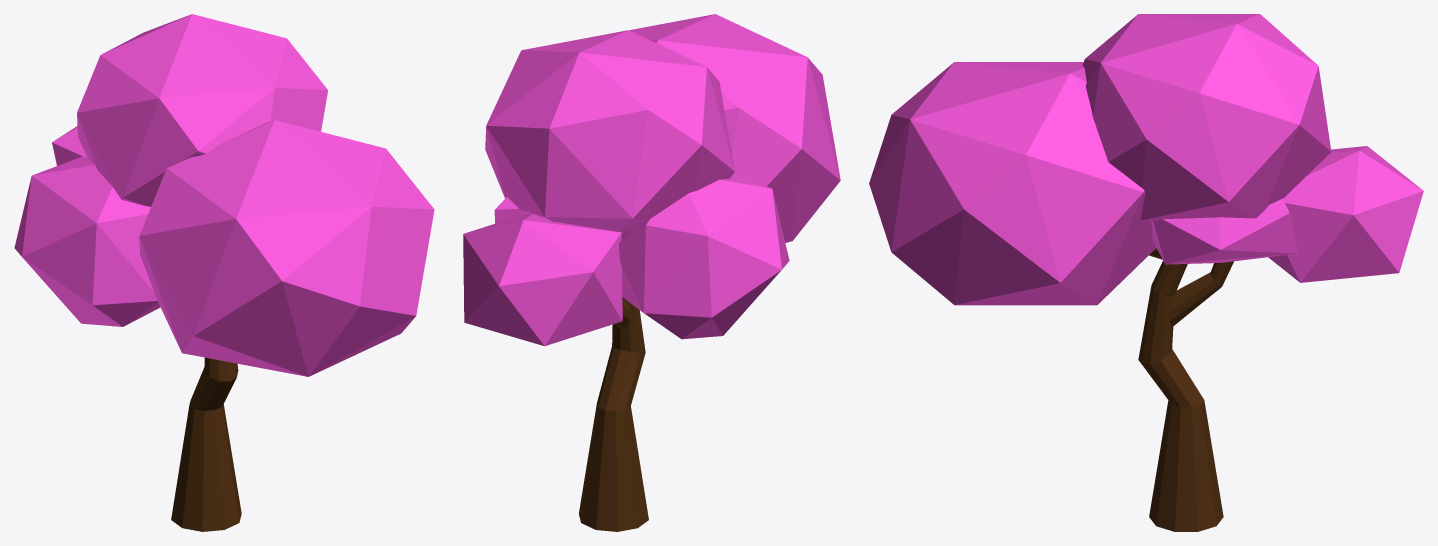
File: Maple_Tree_004.fbx
3 views of the same model, side by side, from view 1: azimuth 30°, elevation 25°; view 2: azimuth 150°, elevation 25°; view 3: azimuth 270°, elevation 25° (orthographic). The views are drawn at different scales.
Parts seen in each view (by area): view 1: Maple Tree.004; view 2: Maple Tree.004; view 3: Maple Tree.004.
Part boxes in pixels (x1=…): Maple Tree.004: x1=14, y1=14, x2=434, y2=531; Maple Tree.004: x1=463, y1=14, x2=840, y2=531; Maple Tree.004: x1=869, y1=14, x2=1423, y2=531.
Size of the model in its own units: 249 by 377 by 381.
